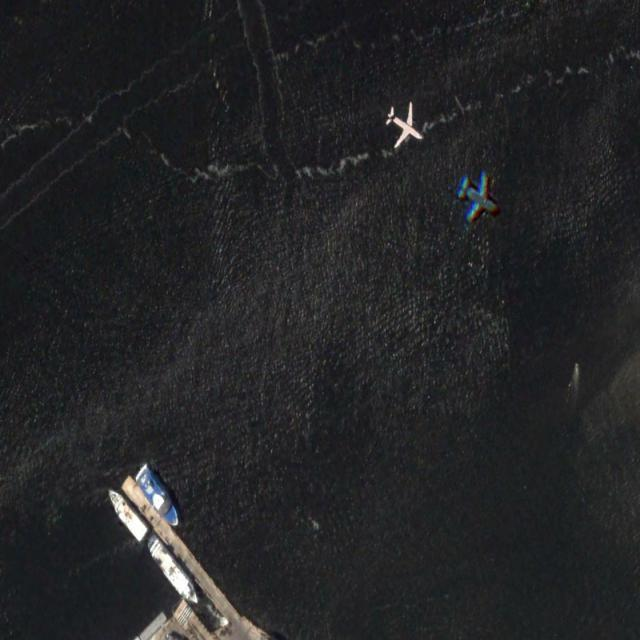Other Ship: (142, 531, 205, 613), (133, 462, 184, 531), (102, 483, 149, 543)
